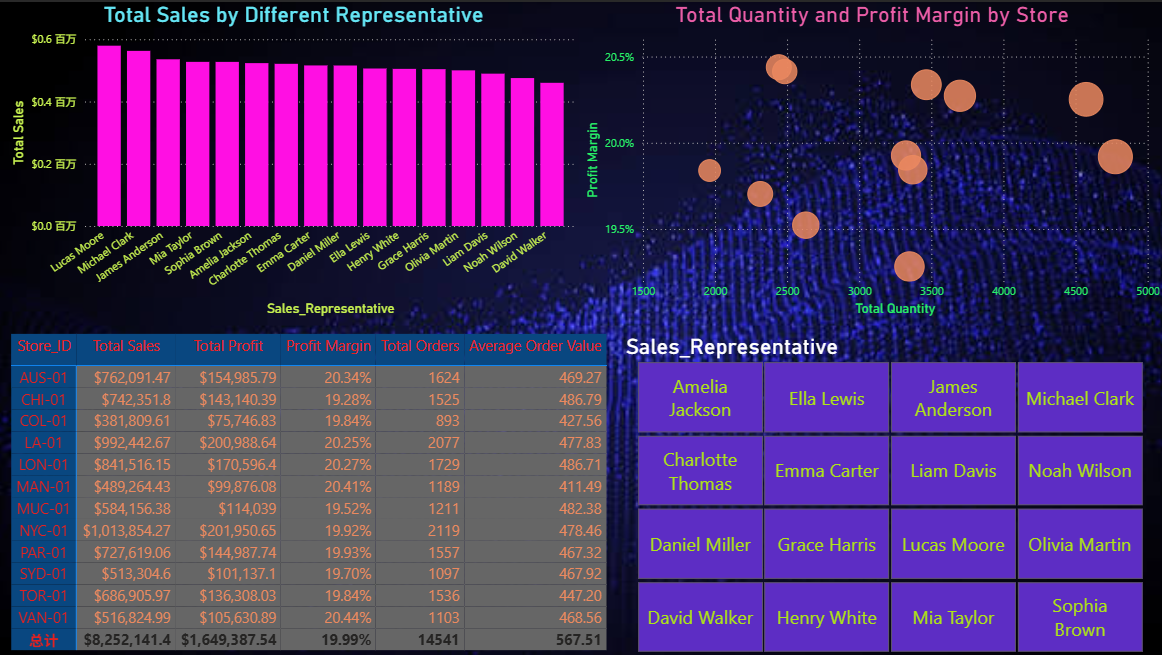

This screenshot's page, from the dashboard's own definition file:
{"tool":"powerbi","page":{"name":"Total Sales & Sales Representative","canvas":[1280,720],"ordinal":5},"visuals":[{"type":"clusteredColumnChart","title":"Total Sales by Different Representative","fields":{"Category":["DimSalesRep.Sales_Representative"],"Y":["FactSales.Total Sales"]},"box":[9.6,0,629.8,349.9],"z":0},{"type":"scatterChart","title":"Total Quantity and Profit Margin by Store","fields":{"X":["FactSales.Total Quantity"],"Y":["FactSales.Profit Margin"],"Category":["FactSales.Store_ID"],"Size":["FactSales.Total Sales"]},"box":[639.5,0,640.8,349.9],"z":1000},{"type":"pivotTable","fields":{"Rows":["FactSales.Store_ID"],"Values":["FactSales.Total Sales","FactSales.Total Profit","FactSales.Profit Margin","FactSales.Total Orders","FactSales.Average Order Value"]},"box":[9.6,359.5,687.5,360.9],"z":2000},{"type":"slicer","fields":{"Values":["DimSalesRep.Sales_Representative"]},"box":[676.5,359.5,603.8,360.9],"z":3000}]}

Visuals, with their boxes in screenshot pixels (x1, y1, x2, y2), scaled from the page's 1280x720 canvas onto the 1162x655 screenshot:
"Total Sales by Different Representative" clusteredColumnChart: <box>9,0,580,318</box>
"Total Quantity and Profit Margin by Store" scatterChart: <box>581,0,1161,318</box>
pivotTable - FactSales.Store_ID x FactSales.Total Sales: <box>9,327,633,654</box>
slicer - DimSalesRep.Sales_Representative: <box>614,327,1161,654</box>
